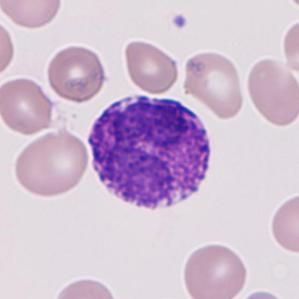Basophil: (82, 88, 221, 220)
Platelets: (170, 11, 190, 32)
RBC: (11, 127, 92, 200), (180, 47, 247, 121), (179, 239, 250, 299), (44, 41, 110, 104), (244, 55, 298, 129), (0, 75, 57, 136), (122, 37, 180, 96), (267, 190, 298, 256), (0, 0, 64, 31), (50, 274, 120, 299), (280, 16, 299, 76), (0, 16, 17, 81), (230, 287, 290, 299), (280, 0, 298, 14)
